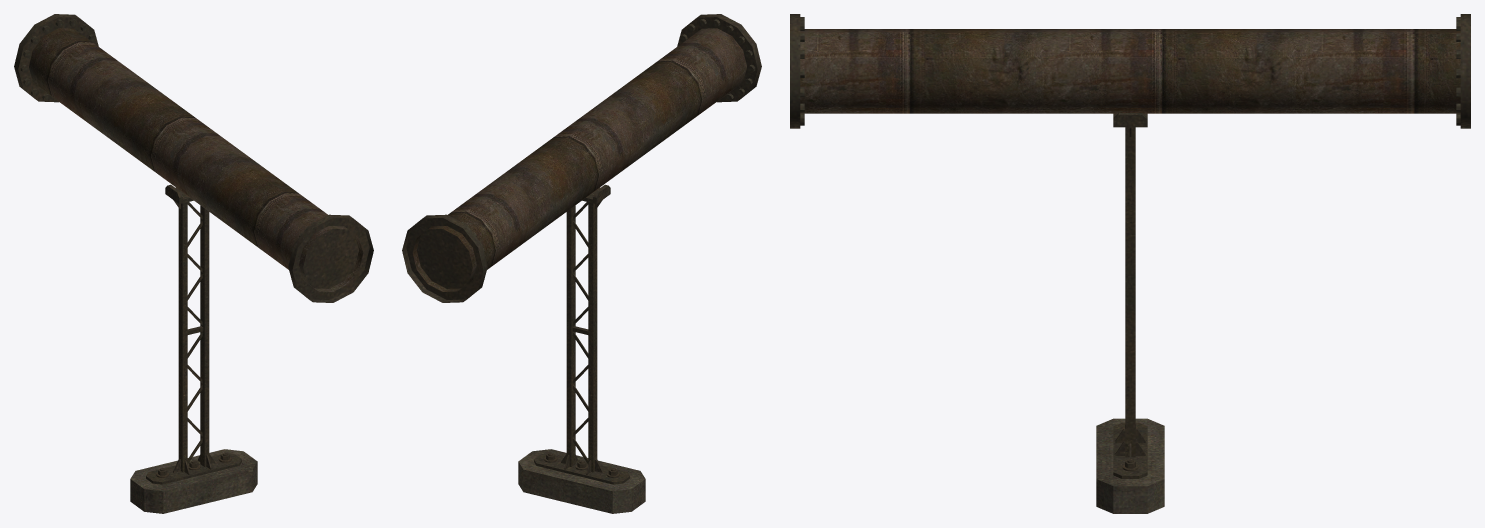
File: pipe_cx_1.obj
3 renders of one model, left to right at view 1: azimuth 30°, elevation 25°; view 2: azimuth 150°, elevation 25°; view 3: azimuth 270°, elevation 25°, orthographic. The views are drawn at different scales.
Visible parts, largest first — view 1: pipe_cx_1; view 2: pipe_cx_1; view 3: pipe_cx_1.
Part boxes in pixels (x1=…): pipe_cx_1: x1=14, y1=14, x2=373, y2=513; pipe_cx_1: x1=402, y1=14, x2=761, y2=513; pipe_cx_1: x1=790, y1=14, x2=1470, y2=513.
Size of the model in its own units: 0.94 by 2.99 by 4.
